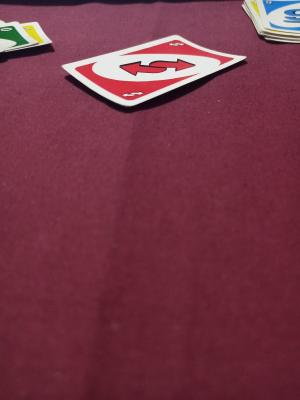reverse: (114, 55, 197, 81), (121, 86, 146, 102)
